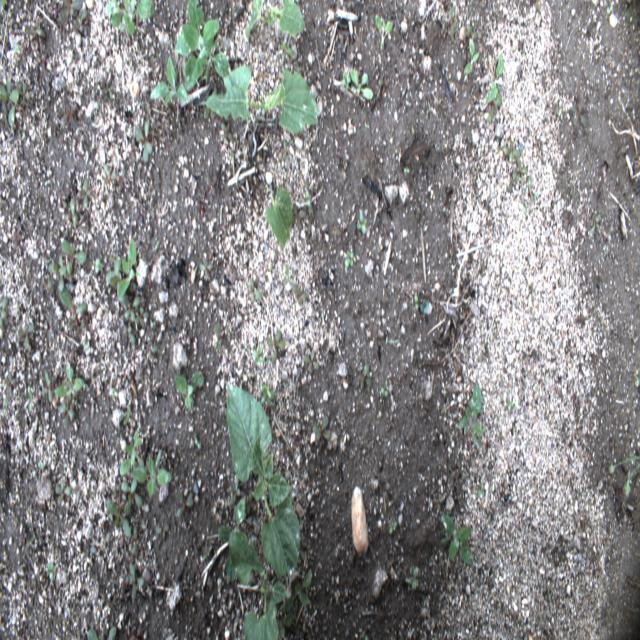crop: (227, 383, 300, 581), (218, 495, 288, 638), (205, 68, 320, 138), (173, 0, 230, 88), (244, 0, 306, 62), (148, 54, 188, 105), (439, 509, 473, 567), (264, 184, 291, 250), (106, 0, 154, 36), (460, 381, 485, 447), (486, 55, 503, 116)
weed: (132, 455, 173, 500), (608, 453, 640, 498), (173, 367, 205, 412), (118, 240, 137, 304), (284, 569, 312, 610), (54, 361, 84, 398), (119, 431, 142, 476), (108, 499, 131, 540), (349, 66, 374, 102), (374, 12, 394, 54), (265, 329, 286, 365), (133, 119, 151, 161), (61, 237, 87, 266), (126, 566, 146, 603), (48, 260, 72, 290), (126, 482, 142, 517), (464, 42, 480, 77), (58, 1, 82, 22), (177, 489, 194, 518), (123, 297, 141, 323), (502, 138, 520, 164), (78, 178, 92, 209), (358, 360, 372, 390), (572, 100, 587, 128), (404, 566, 420, 592), (304, 350, 320, 376), (105, 260, 121, 286), (58, 404, 74, 429), (247, 276, 262, 302), (58, 288, 74, 311), (262, 382, 276, 408), (73, 8, 89, 30), (3, 82, 19, 104), (56, 481, 70, 505), (21, 324, 33, 352), (294, 203, 306, 231), (512, 161, 526, 185), (63, 201, 78, 223), (0, 294, 9, 330), (313, 420, 329, 440), (42, 374, 53, 401), (415, 296, 431, 314), (26, 22, 44, 38), (104, 162, 117, 184), (589, 214, 601, 237), (292, 283, 308, 300), (448, 5, 456, 39), (4, 106, 15, 130), (123, 325, 135, 346), (304, 190, 313, 217), (156, 524, 171, 540), (200, 256, 212, 276), (356, 215, 368, 234), (464, 22, 478, 38), (28, 383, 34, 418), (380, 379, 390, 400), (341, 71, 351, 91), (522, 168, 532, 188), (123, 403, 131, 427), (136, 311, 148, 327), (18, 84, 30, 100), (284, 262, 291, 288), (254, 344, 262, 366), (46, 561, 58, 575), (202, 546, 212, 562), (346, 248, 354, 268), (216, 320, 221, 352), (388, 520, 398, 535), (21, 121, 28, 140), (93, 260, 104, 272), (77, 300, 88, 311), (547, 582, 552, 606), (88, 628, 100, 638), (634, 370, 640, 389), (606, 3, 614, 17), (2, 394, 8, 412), (109, 627, 118, 638), (478, 482, 484, 498), (557, 100, 562, 117), (626, 6, 632, 20), (361, 629, 369, 639), (403, 166, 411, 175), (508, 399, 515, 409), (525, 200, 529, 216), (530, 191, 538, 199)
